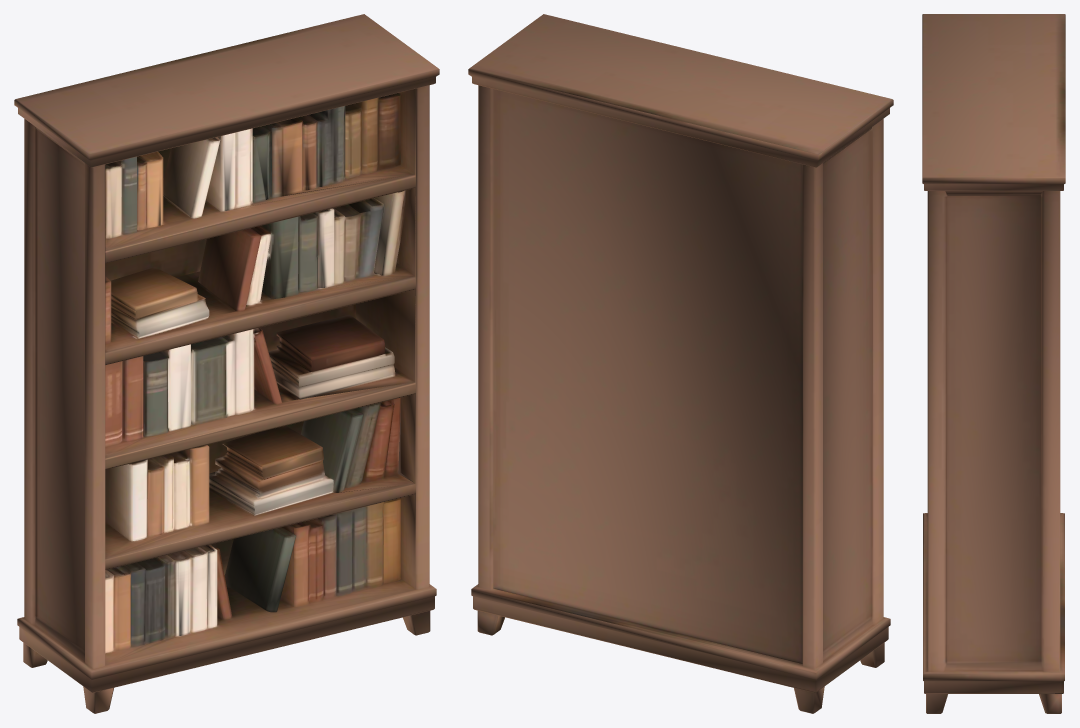
Rendered from Furniture__bookshelf_realistic_style_3d6a7c59_v2.cluster.glb.
3 views of the same model, side by side, from view 1: azimuth 30°, elevation 25°; view 2: azimuth 150°, elevation 25°; view 3: azimuth 270°, elevation 25° (orthographic). The views are drawn at different scales.
Visible parts, largest first — view 1: texture_pbr_20250901; view 2: texture_pbr_20250901; view 3: texture_pbr_20250901.
Part boxes in pixels (x1=…): texture_pbr_20250901: x1=14, y1=14, x2=439, y2=713; texture_pbr_20250901: x1=468, y1=14, x2=893, y2=713; texture_pbr_20250901: x1=922, y1=14, x2=1065, y2=713.
Bounding box in the file's own units: 1.23 × 1.9 × 0.4571.
1 material, 1 textured.
